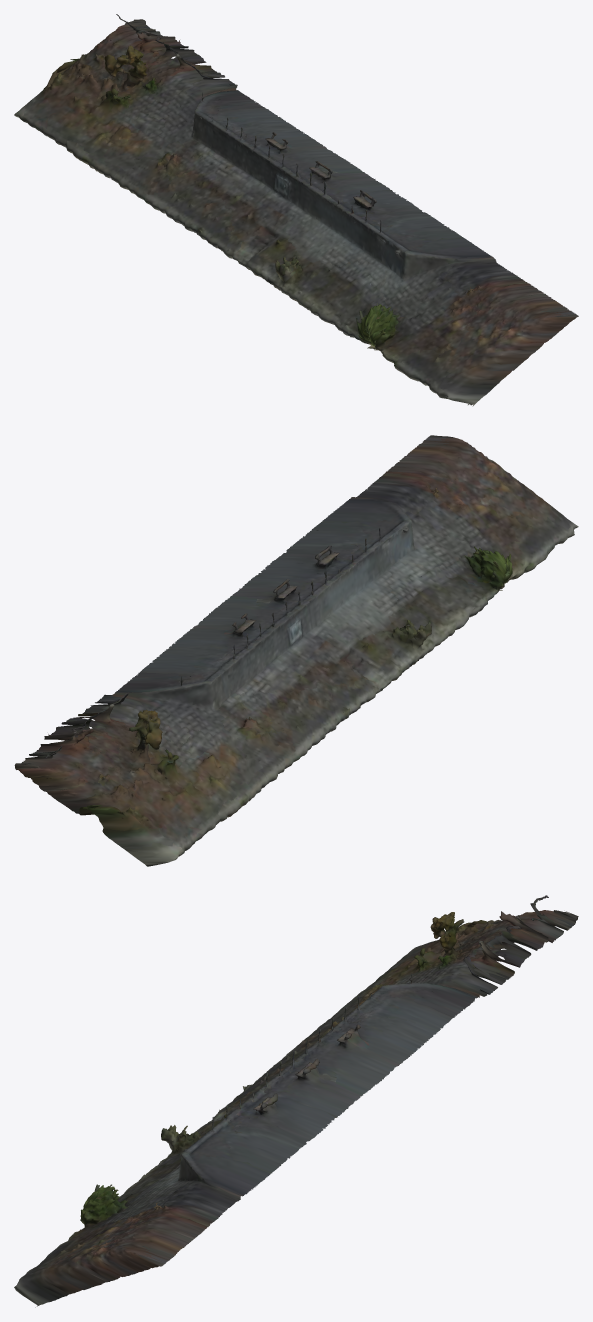
File: run4_p3_c13.glb
3 renders of one model, top to bottom at view 1: azimuth 30°, elevation 25°; view 2: azimuth 150°, elevation 25°; view 3: azimuth 330°, elevation 25°, orthographic. The views are drawn at different scales.
Visible parts, largest first — view 1: run4_p3_straight_c13; view 2: run4_p3_straight_c13; view 3: run4_p3_straight_c13.
Part boxes in pixels (bbox=[...]): run4_p3_straight_c13: bbox=[14, 14, 578, 406]; run4_p3_straight_c13: bbox=[14, 435, 578, 866]; run4_p3_straight_c13: bbox=[14, 895, 578, 1307].
Bounding box in the file's own units: 9.66 × 5.27 × 40.34.
Materials: 1 (1 with a texture image).
